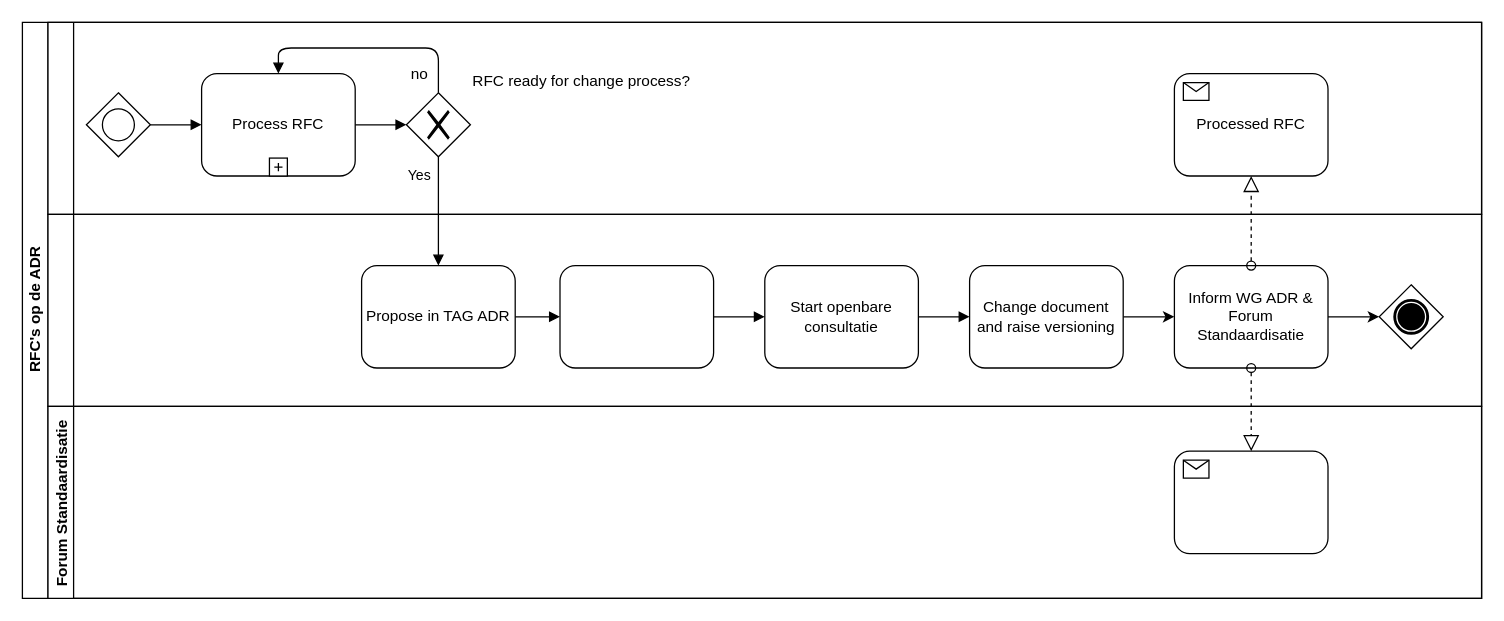
The diagram is 1504 pixels wide and 621 high, and some of its shapes have lost their labels. The shapes that lost their labels are listed below. From the top down, each one's box as (x1, y1, x2, y2) in pixels, then its label:
(47, 21, 1482, 214): Werkgroep ADR
(559, 264, 714, 368): TAG ADR Decides
(47, 213, 1482, 406): Logius (CvS)
(1173, 450, 1328, 554): New version of ADR Standaard
